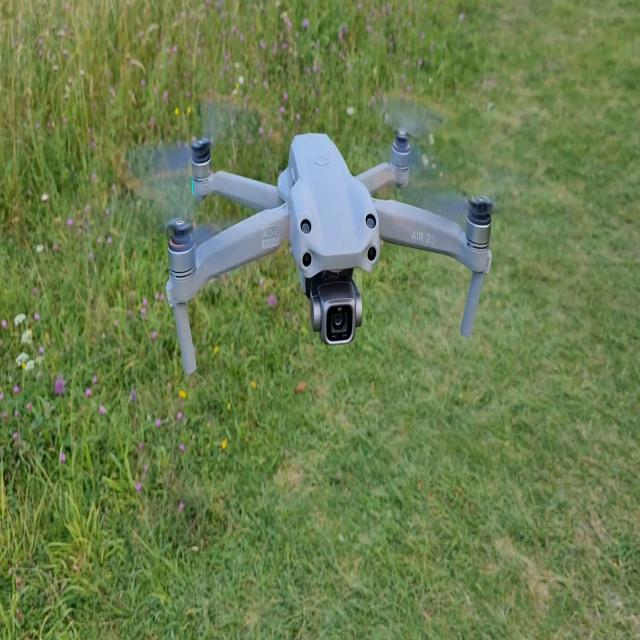drone: (145, 128, 494, 375)
